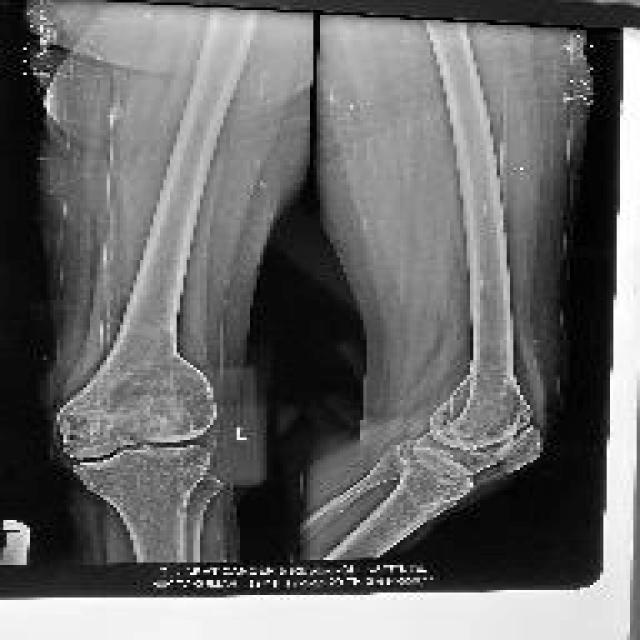bone-cancer: (98, 353, 220, 433), (436, 363, 538, 440)
